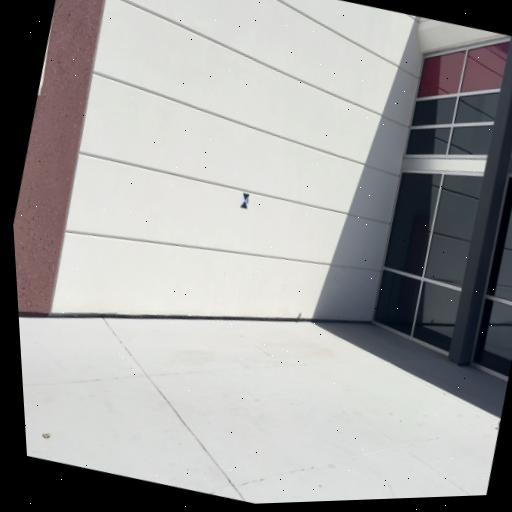target4: (239, 193, 251, 210)
